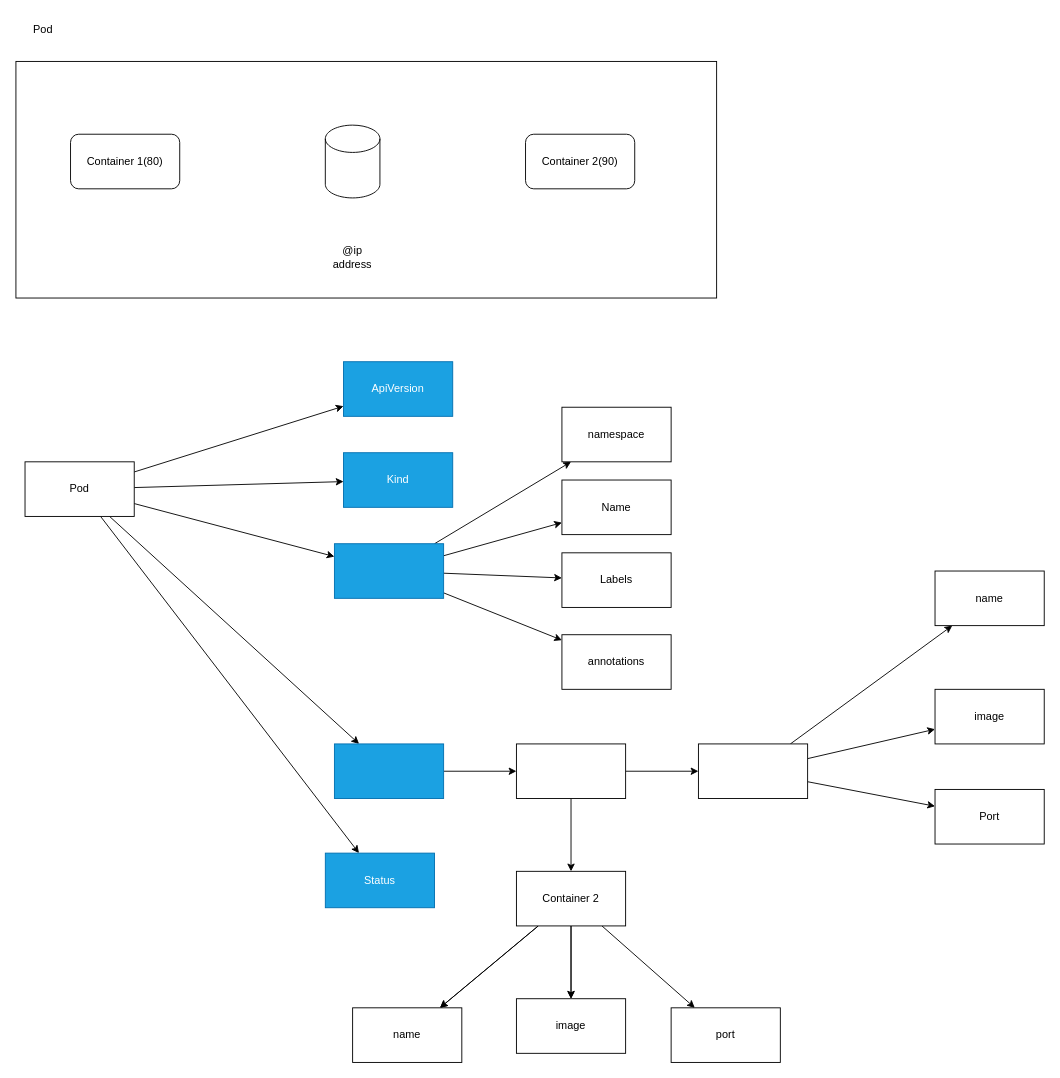
This 1060x1078 diagram has some shape labels left out. The centre of each missing label's shape, as x and y in pixels:
"Container 1" belongs at point 753,771.
"Containers" belongs at point 571,771.
"metadata" belongs at point 389,570.
"spec" belongs at point 389,771.
"Volume" belongs at point 352,161.
